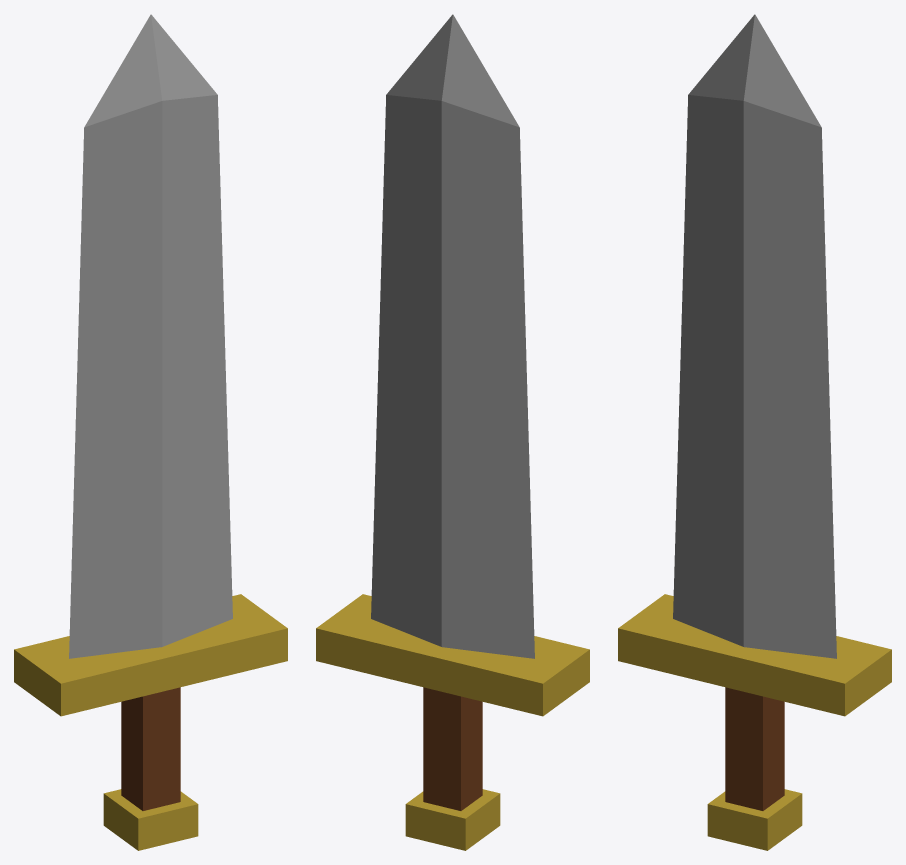
The model's file is sword.glb.
3 renders of one model, left to right at view 1: azimuth 30°, elevation 25°; view 2: azimuth 150°, elevation 25°; view 3: azimuth 330°, elevation 25°, orthographic.
Visible parts, largest first — view 1: Cube; view 2: Cube; view 3: Cube.
Boxes of the visible parts, x1=… form: Cube: x1=14, y1=14, x2=287, y2=850; Cube: x1=316, y1=14, x2=589, y2=850; Cube: x1=618, y1=14, x2=891, y2=850.
Size of the model in its own units: 0.1963 by 0.675 by 0.0701.
